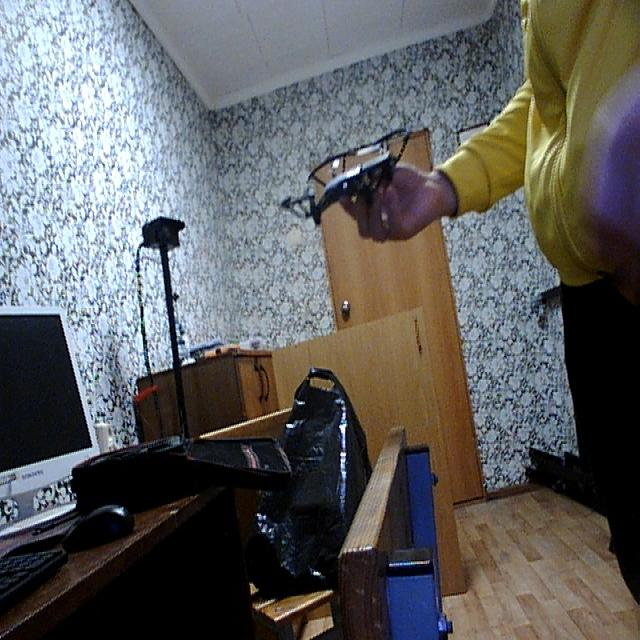drone: (277, 128, 425, 237)
